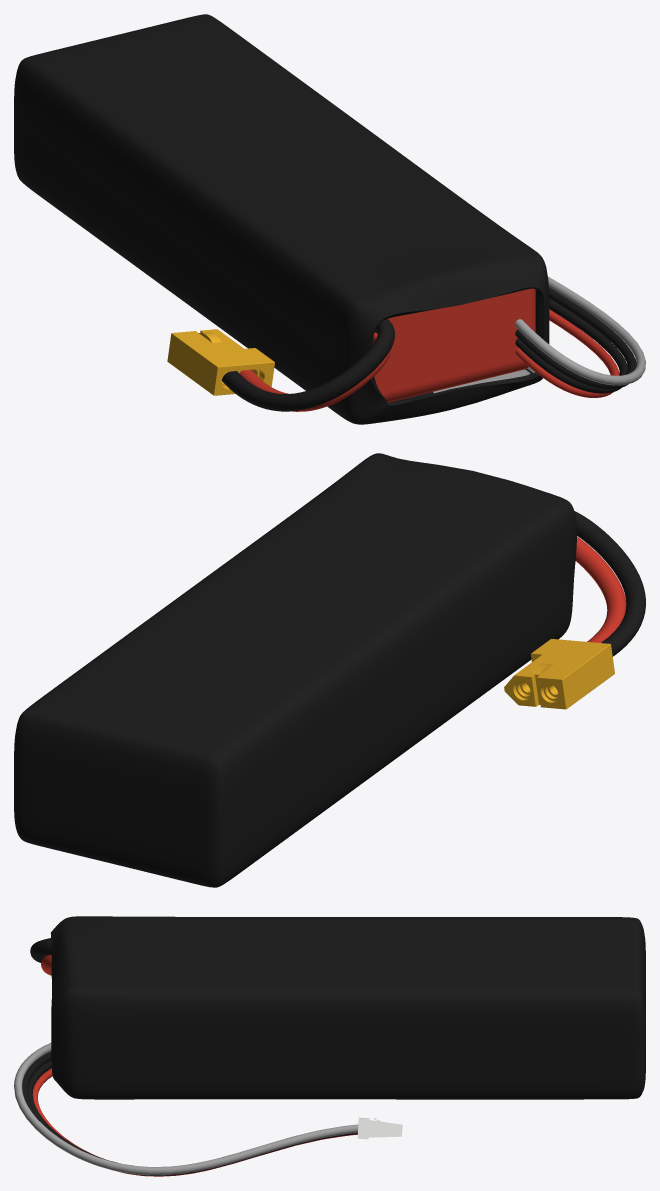
File: Battery_Drone.fbx
3 views of the same model, one above another, from view 1: azimuth 30°, elevation 25°; view 2: azimuth 150°, elevation 25°; view 3: azimuth 270°, elevation 25° (orthographic). The views are drawn at different scales.
Visible parts, largest first — view 1: Body4, Body2, Body10, Body1, Body5, Body6, Body7, Body8, Body9; view 2: Body4, Body10, Body1, Body9; view 3: Body4, Body5, Body7, Body6, Body8, Body11, Body1.
Boxes of the visible parts, x1,y1,x2,y2 form: Body4: (14,14,549,424); Body2: (374,288,535,402); Body10: (167,329,274,395); Body1: (222,319,394,411); Body5: (515,276,645,385); Body6: (515,287,636,389); Body7: (515,298,627,393); Body8: (515,309,619,397); Body9: (239,332,391,411); Body4: (14,453,576,887); Body10: (504,639,614,709); Body1: (574,511,645,656); Body9: (575,536,626,642); Body4: (50,916,645,1099); Body5: (14,1043,358,1175); Body7: (27,1060,357,1175); Body6: (22,1052,357,1175); Body8: (32,1068,357,1176); Body11: (364,1118,402,1137); Body1: (30,938,51,962).
Bounding box in the file's own units: 98.16 × 38.45 × 152.
